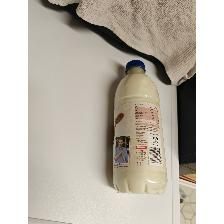Milch: (112, 58, 168, 198)
